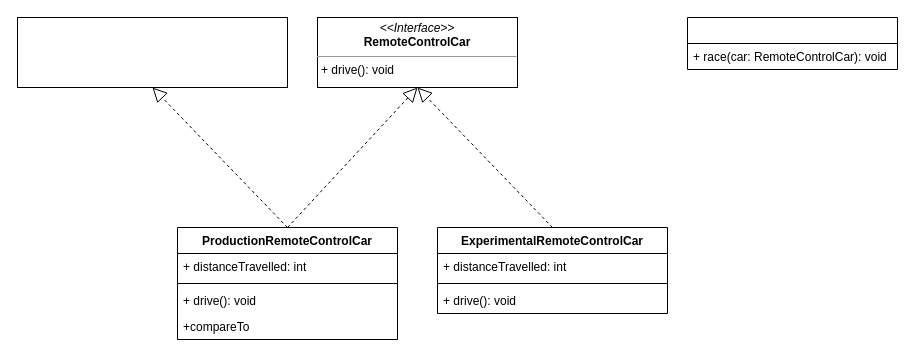
Image size: 915x360. Some labels were removed from this diagram. Each missing label, with the box of its shape:
<<Interface>> Comparable<ProductionRemoteControlCar> + compareTo: (16, 16, 288, 88)
TestTrack: (686, 16, 898, 70)
